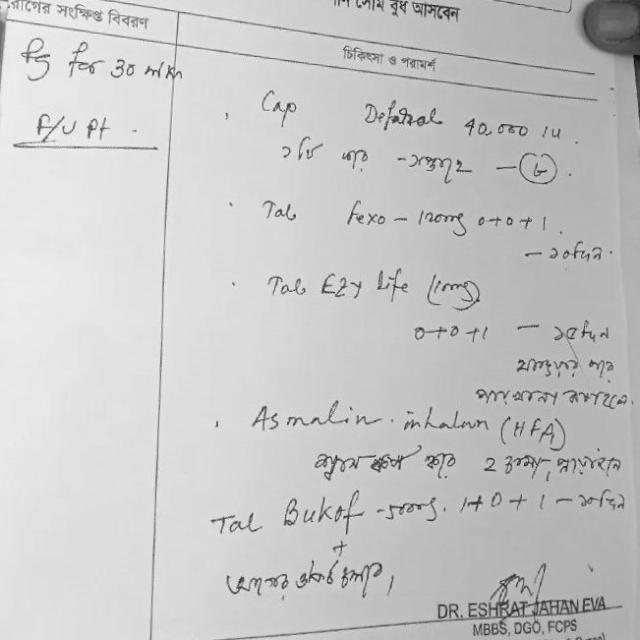medicine: (245, 396, 388, 438), (276, 489, 371, 539), (314, 262, 416, 306), (348, 94, 446, 138), (329, 192, 393, 232)
